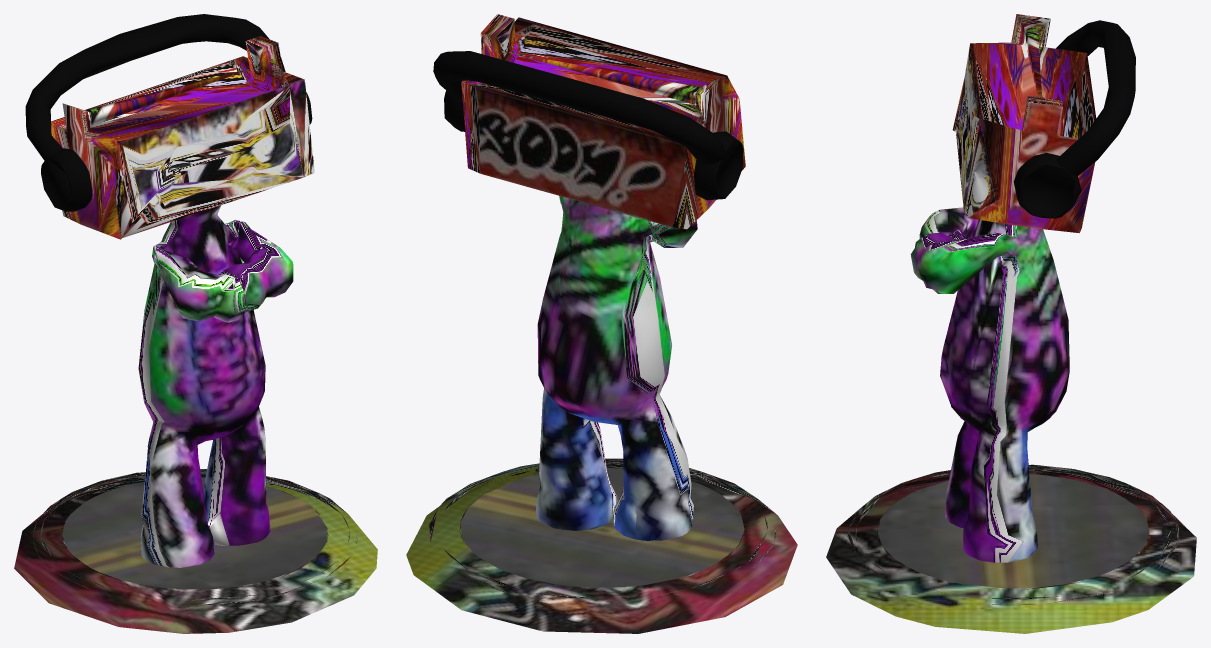
The picture shows the model from 3 angles, left to right: view 1: azimuth 30°, elevation 25°; view 2: azimuth 150°, elevation 25°; view 3: azimuth 270°, elevation 25°; orthographic projection. The views are drawn at different scales.
Bounding box in the file's own units: 1.44 × 2.13 × 1.43.
Materials: 5 (4 with a texture image).
